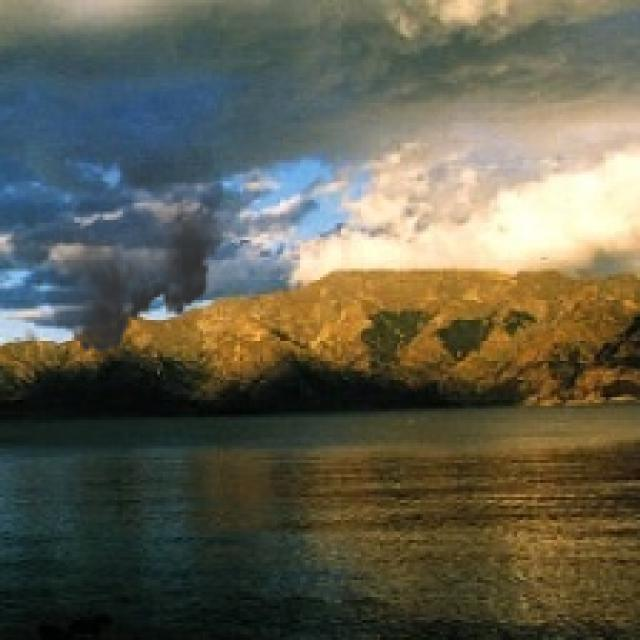Smoke: (2, 131, 228, 363)
